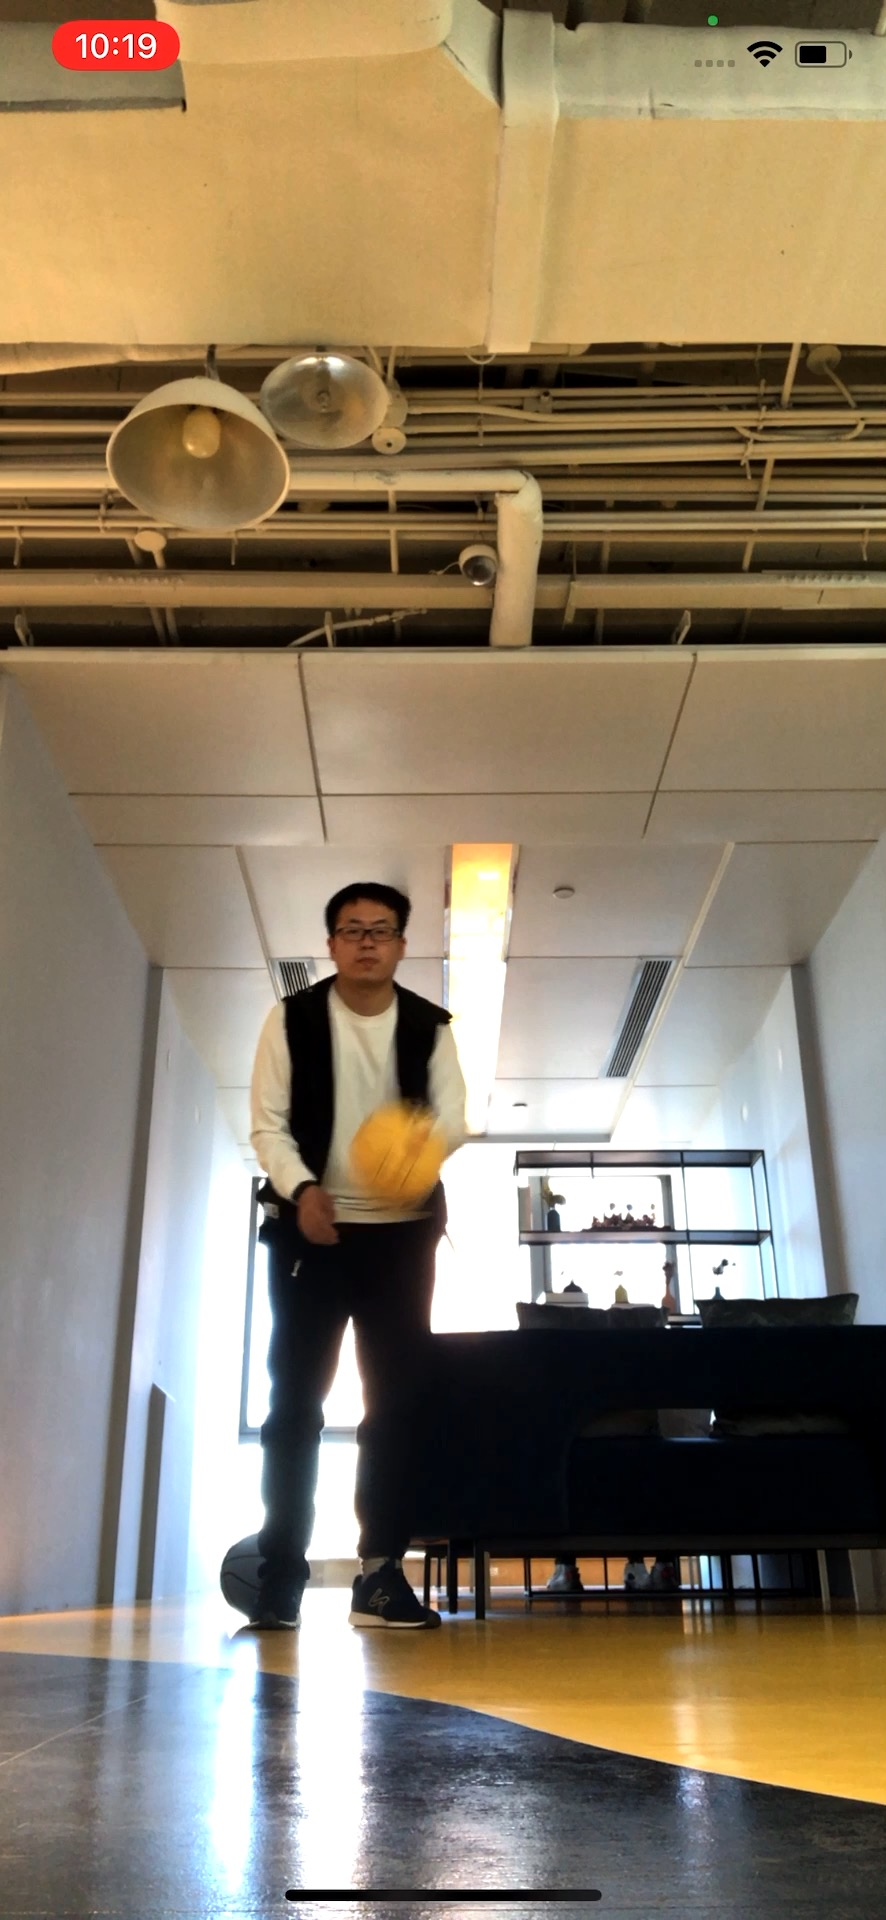ball: (351, 1100, 445, 1206)
